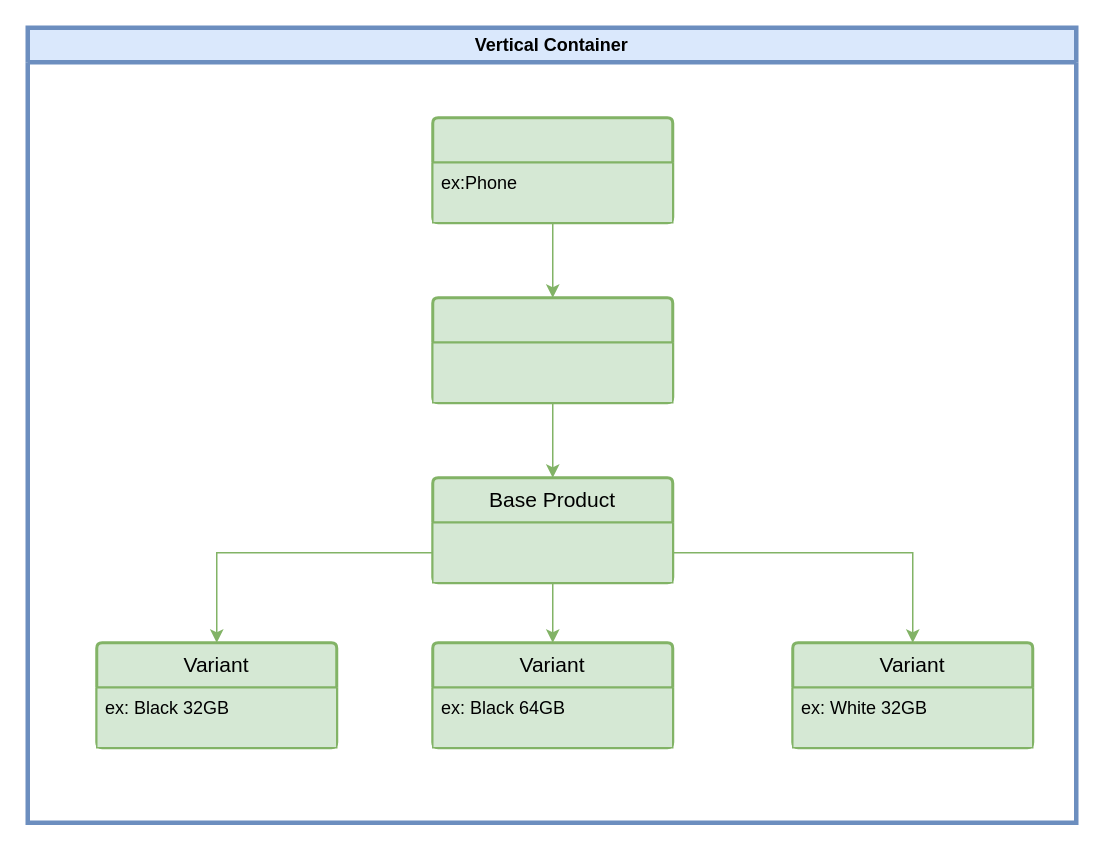
Some shapes in this 1104 by 851 pixel diagram are drawn without their labels. The shapes that lost their labels are listed below. From the top down, each one's box as (x1, y1, x2, y2) in pixels, then its label:
(430, 116, 674, 224): Category 1
(430, 296, 674, 404): Category n
(431, 341, 673, 403): ex: Galaxy
(431, 521, 673, 583): Name: Galaxy s24
